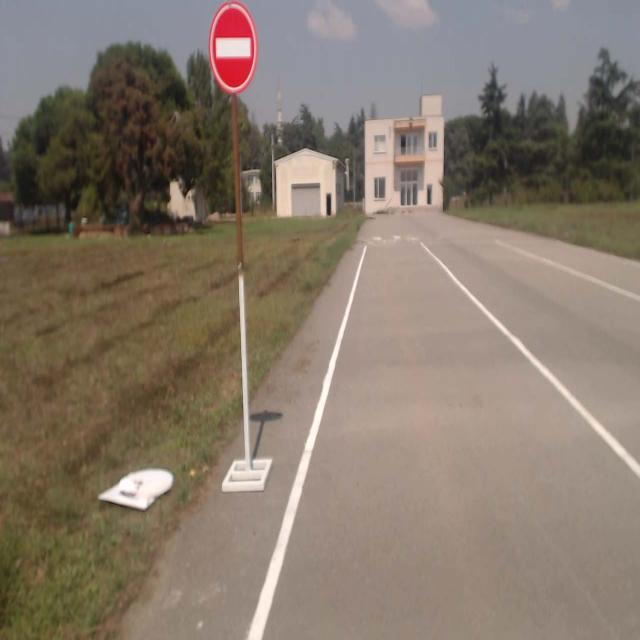girisyok: (209, 5, 257, 95)
